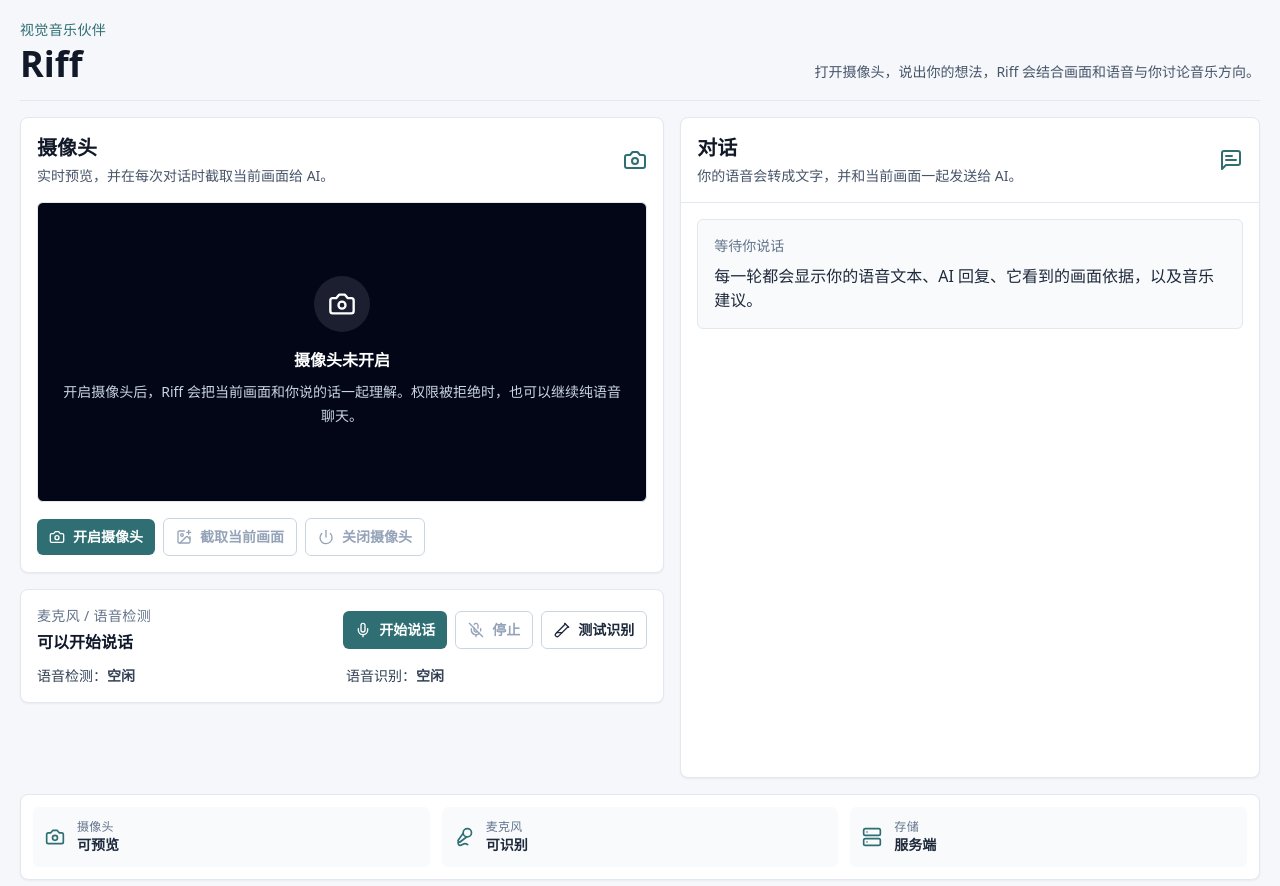
it: home chat flow › submits ASR userText to /api/chat and renders the structured response
Click the button "测试识别" at (594, 630), box [541, 611, 647, 649]
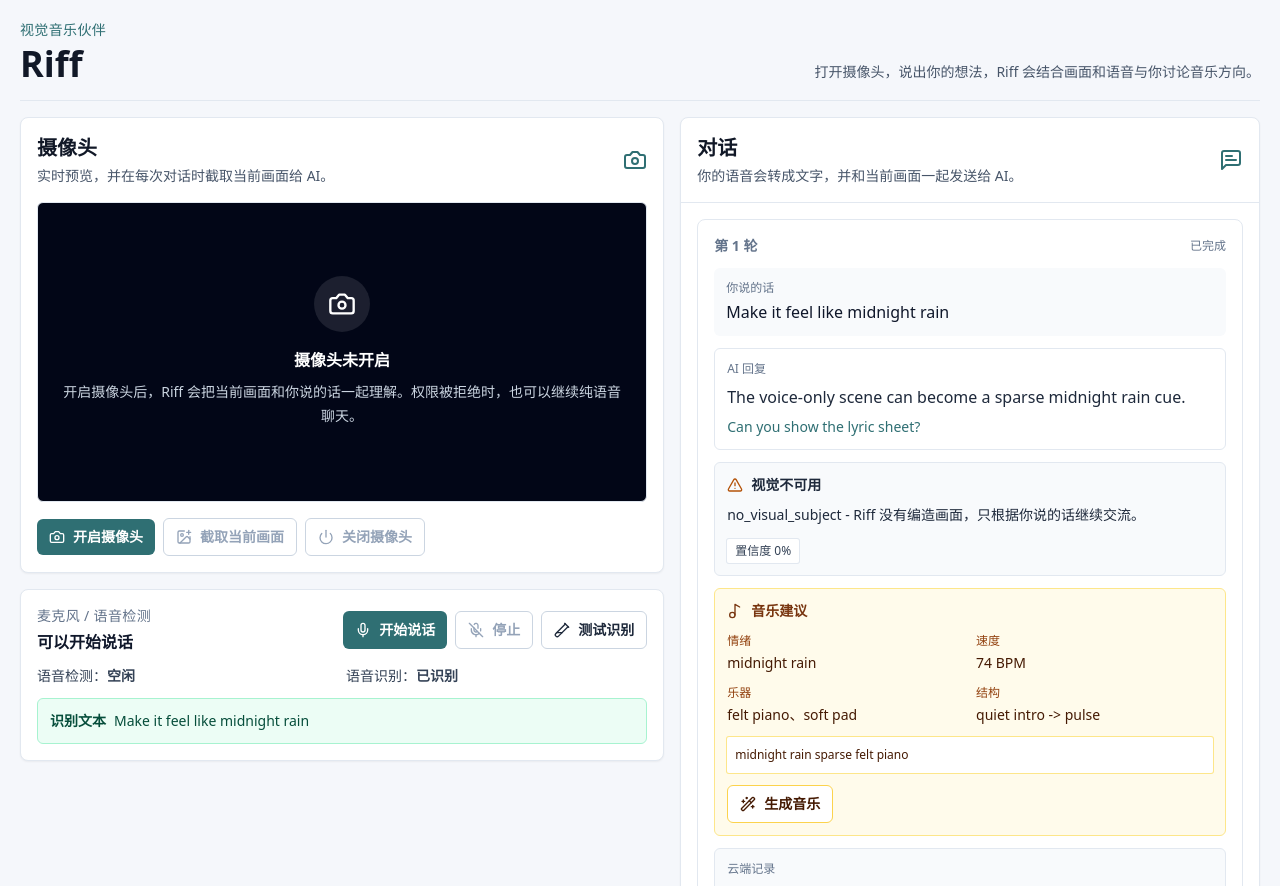
Expected: the text "Make it feel like midnight rain" next to "识别文本" is shown, [114, 711, 309, 730]
Expected: the text "The voice-only scene can become a sparse midnight rain cue." is shown, [727, 385, 1213, 409]
Expected: the text "no_visual_subject" is shown, [727, 505, 1145, 524]
